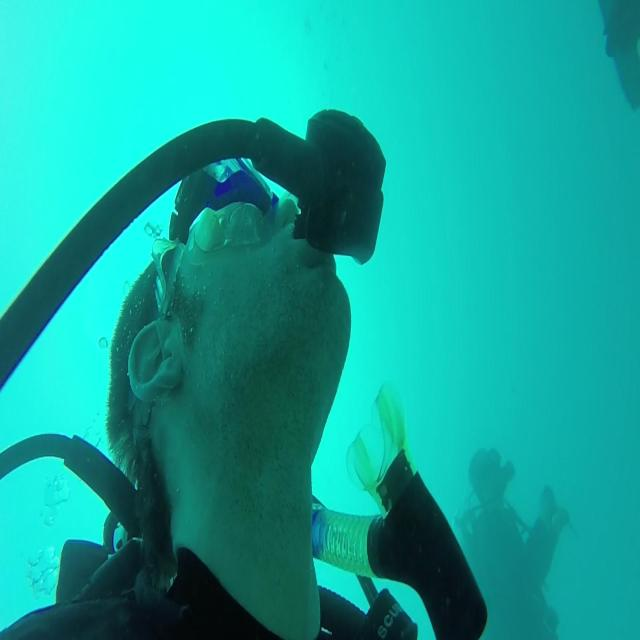human: (1, 108, 487, 638), (453, 446, 572, 638)
